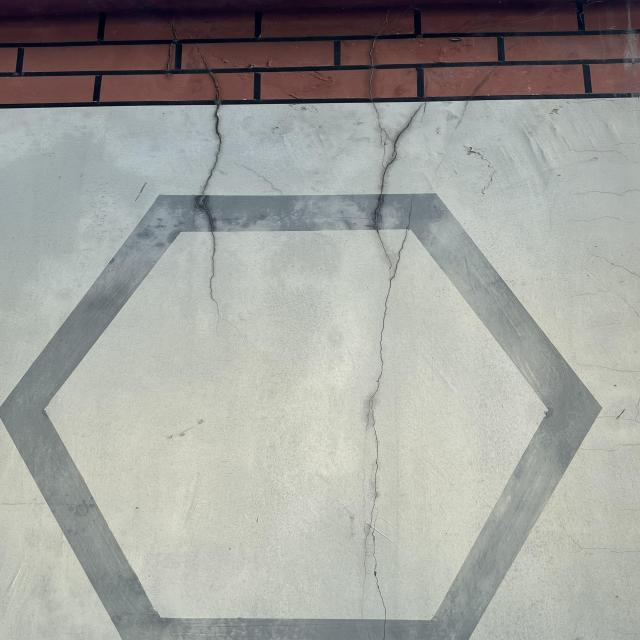crack: (354, 98, 421, 640), (170, 41, 229, 289)
